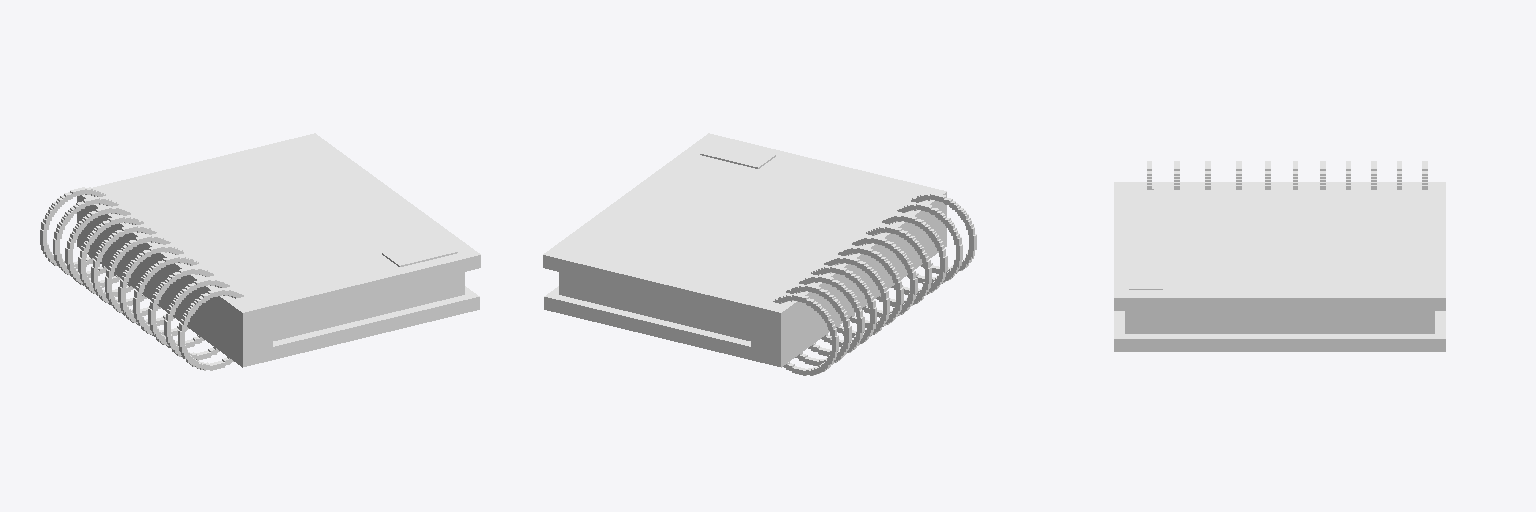
Rendered from Caderninho.obj.
The picture shows the model from 3 angles: view 1: azimuth 30°, elevation 25°; view 2: azimuth 150°, elevation 25°; view 3: azimuth 270°, elevation 25°; orthographic projection.
Visible parts, largest first — view 1: object 1; view 2: object 1; view 3: object 1.
Part boxes in pixels (x1,y1,x2,y2): object 1: (40,133,480,370); object 1: (543,133,976,375); object 1: (1114,161,1445,351).
Bounding box in the file's own units: 18 × 4.7 × 18.2.